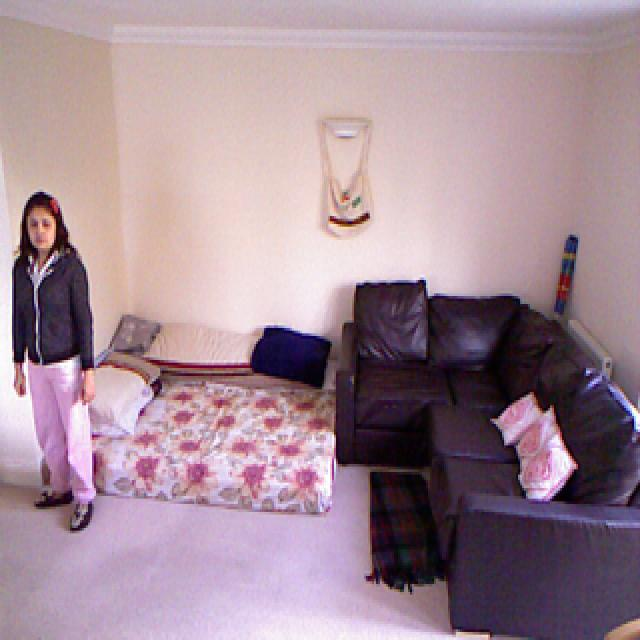stand: (10, 185, 105, 537)
